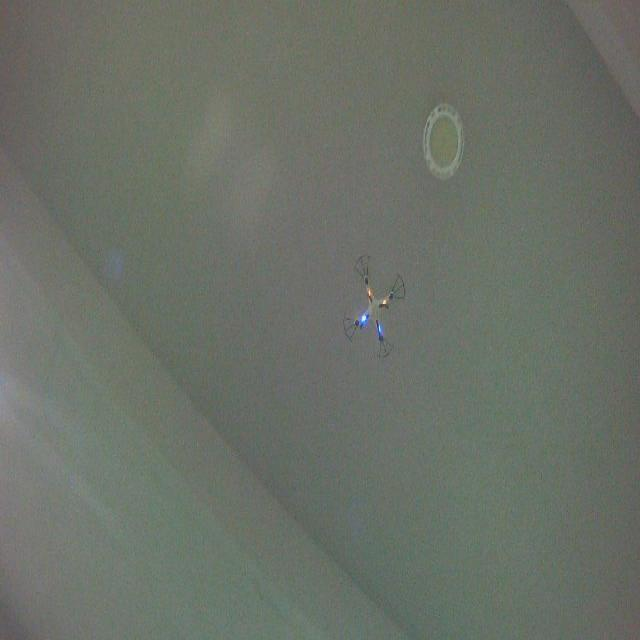drone: (341, 249, 407, 362)
